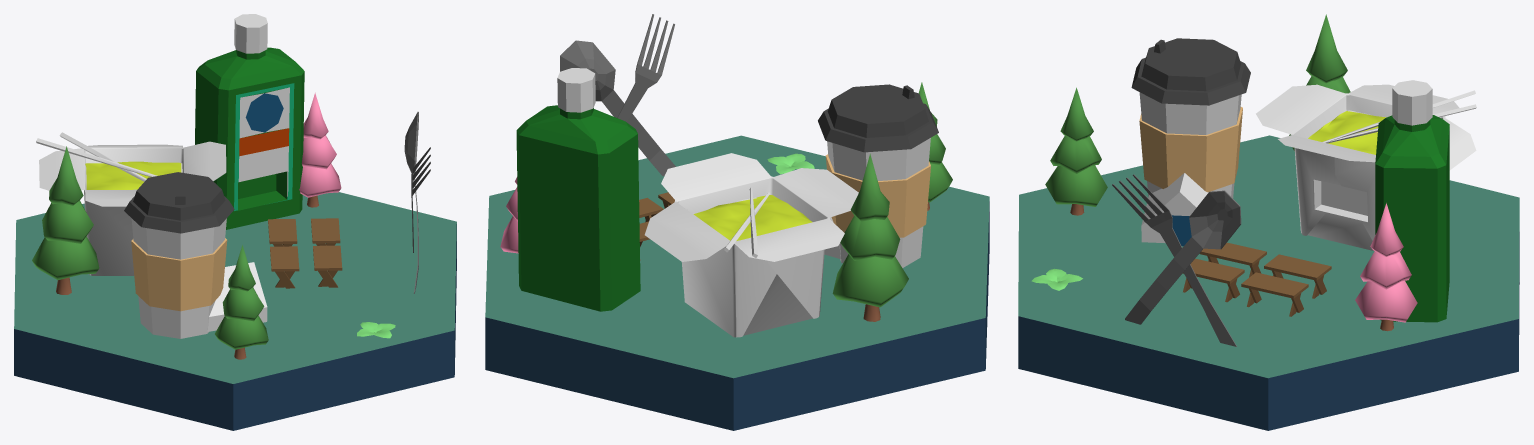
Rendered from Macro - Restaurant lvl 3.fbx.
3 views of the same model, side by side, from view 1: azimuth 30°, elevation 25°; view 2: azimuth 150°, elevation 25°; view 3: azimuth 270°, elevation 25° (orthographic). The views are drawn at different scales.
Parts seen in each view (by area): view 1: Cylinder.176, drink_001.001, coffee_001.002, Cube.108, Tree_Spruce_tiny_01.001, Tree_Spruce_tiny_01.002, Tree_Spruce_tiny_01.003, Cube.003, table.003, table.002, Plane.116, table.001 (+3 smaller); view 2: Cylinder.176, Cube.108, drink_001.001, coffee_001.002, Tree_Spruce_tiny_01.001, Plane.116, Plane.117, Tree_Spruce_tiny_01.002, Tree_Spruce_tiny_01.003, Plane.011; view 3: Cylinder.176, Cube.108, coffee_001.002, drink_001.001, Tree_Spruce_tiny_01.002, Tree_Spruce_tiny_01.003, Plane.116, Plane.117, Cube.003, Tree_Spruce_tiny_01.001, table.001, table (+3 smaller).
Part boxes in pixels (bbox=[...]): Cylinder.176: bbox=[14, 192, 456, 430]; drink_001.001: bbox=[195, 14, 304, 229]; coffee_001.002: bbox=[124, 172, 234, 338]; Cube.108: bbox=[36, 132, 226, 275]; Tree_Spruce_tiny_01.001: bbox=[32, 146, 99, 294]; Tree_Spruce_tiny_01.002: bbox=[215, 245, 268, 359]; Tree_Spruce_tiny_01.003: bbox=[299, 92, 341, 207]; Cube.003: bbox=[207, 262, 267, 331]; table.003: bbox=[270, 246, 299, 288]; table.002: bbox=[313, 245, 342, 287]; Plane.116: bbox=[404, 111, 418, 293]; table.001: bbox=[311, 218, 340, 245]; Cylinder.176: bbox=[485, 135, 989, 430]; Cube.108: bbox=[644, 153, 858, 337]; drink_001.001: bbox=[516, 68, 640, 311]; coffee_001.002: bbox=[818, 84, 938, 267]; Tree_Spruce_tiny_01.001: bbox=[832, 153, 908, 321]; Plane.116: bbox=[560, 40, 675, 176]; Plane.117: bbox=[617, 14, 674, 122]; Tree_Spruce_tiny_01.002: bbox=[919, 82, 952, 210]; Tree_Spruce_tiny_01.003: bbox=[500, 177, 518, 253]; Plane.011: bbox=[767, 153, 814, 174]; Cylinder.176: bbox=[1018, 135, 1519, 430]; Cube.108: bbox=[1256, 84, 1476, 250]; coffee_001.002: bbox=[1131, 38, 1250, 197]; drink_001.001: bbox=[1375, 80, 1449, 322]; Tree_Spruce_tiny_01.002: bbox=[1045, 87, 1107, 215]; Tree_Spruce_tiny_01.003: bbox=[1355, 203, 1417, 331]; Plane.116: bbox=[1125, 190, 1241, 324]; Plane.117: bbox=[1112, 174, 1236, 346]; Cube.003: bbox=[1141, 173, 1208, 243]; Tree_Spruce_tiny_01.001: bbox=[1289, 14, 1350, 151]; table.001: bbox=[1241, 272, 1308, 316]; table: bbox=[1264, 254, 1331, 298].
Bounding box in the file's own units: 197 × 101 × 172.
